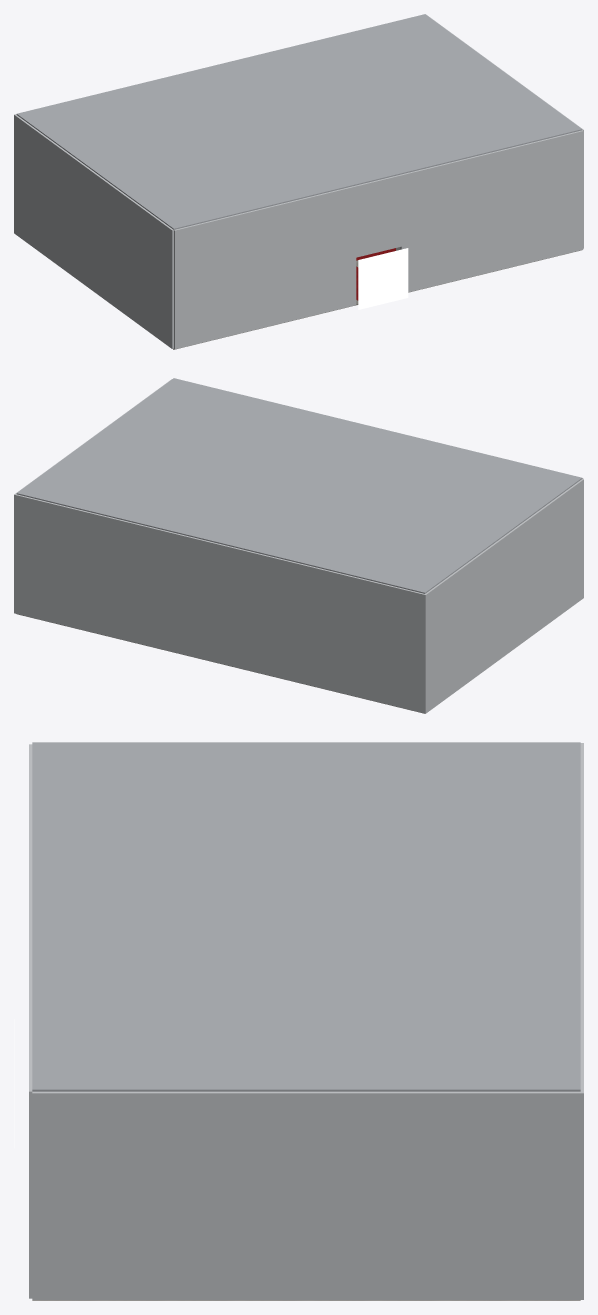
File: room_trade_fair.glb
The picture shows the model from 3 angles, top to bottom: view 1: azimuth 30°, elevation 25°; view 2: azimuth 150°, elevation 25°; view 3: azimuth 270°, elevation 25°; orthographic projection. The views are drawn at different scales.
Parts seen in each view (by area): view 1: Room; view 2: Room; view 3: Room.
Part boxes in pixels (x1,y1,x2,y2): Room: (14, 14, 583, 349); Room: (14, 378, 583, 713); Room: (14, 742, 583, 1300).
Size of the model in its own units: 36.3 by 10.2 by 24.96.
Materials: 16 (3 with a texture image).
